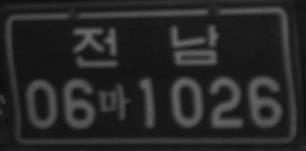0: (170, 74, 205, 129), (24, 78, 59, 131)
1: (134, 75, 164, 129)
2: (208, 75, 245, 130)
6: (246, 73, 283, 130), (61, 76, 97, 131)
마: (98, 81, 132, 122)
전남_D: (71, 23, 221, 70)
